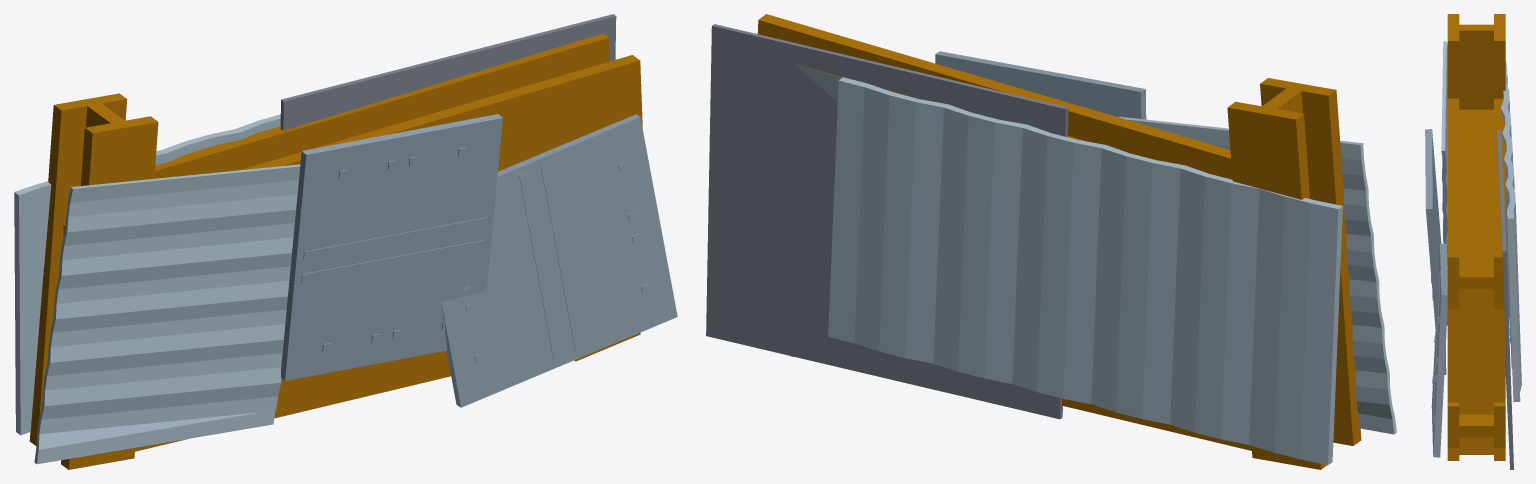
The model's file is BuildableMetalWall.fbx.
The picture shows the model from 3 angles, left to right: view 1: azimuth 30°, elevation 25°; view 2: azimuth 150°, elevation 25°; view 3: azimuth 270°, elevation 25°; orthographic projection. The views are drawn at different scales.
Parts seen in each view (by area): view 1: Cube.004; view 2: Cube.004; view 3: Cube.004.
Boxes of the visible parts, bbox=[...] form: Cube.004: bbox=[14, 14, 677, 469]; Cube.004: bbox=[706, 14, 1396, 469]; Cube.004: bbox=[1425, 14, 1521, 469].
Size of the model in its own units: 284 by 152 by 50.81.
